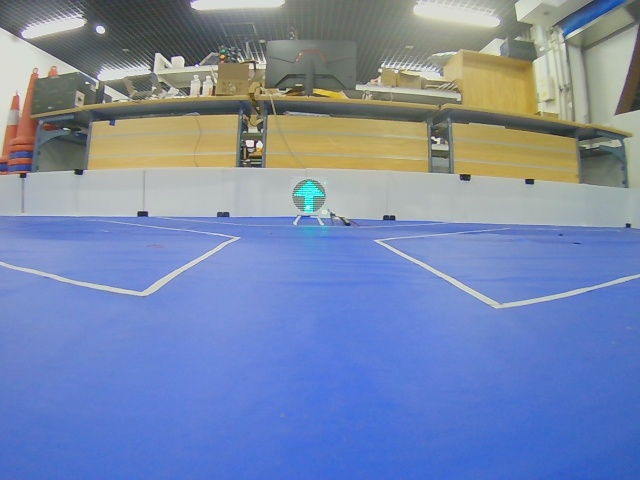straight_green: (292, 179, 326, 215)
